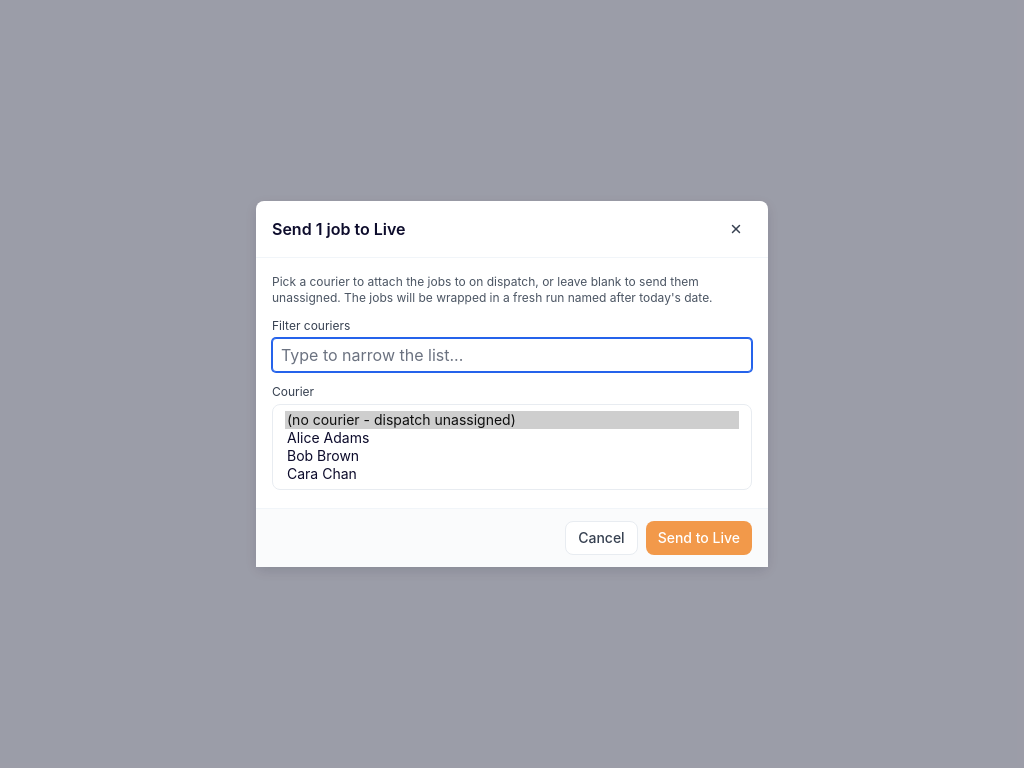
Test: SendSelectedModal › shows the "no couriers match" warning when filter has no hits
The width and height of the screenshot is (1024, 768).
Type "zzz" into the field with placeholder "Type to narrow the list..." at (512, 355), box [272,338,752,372]
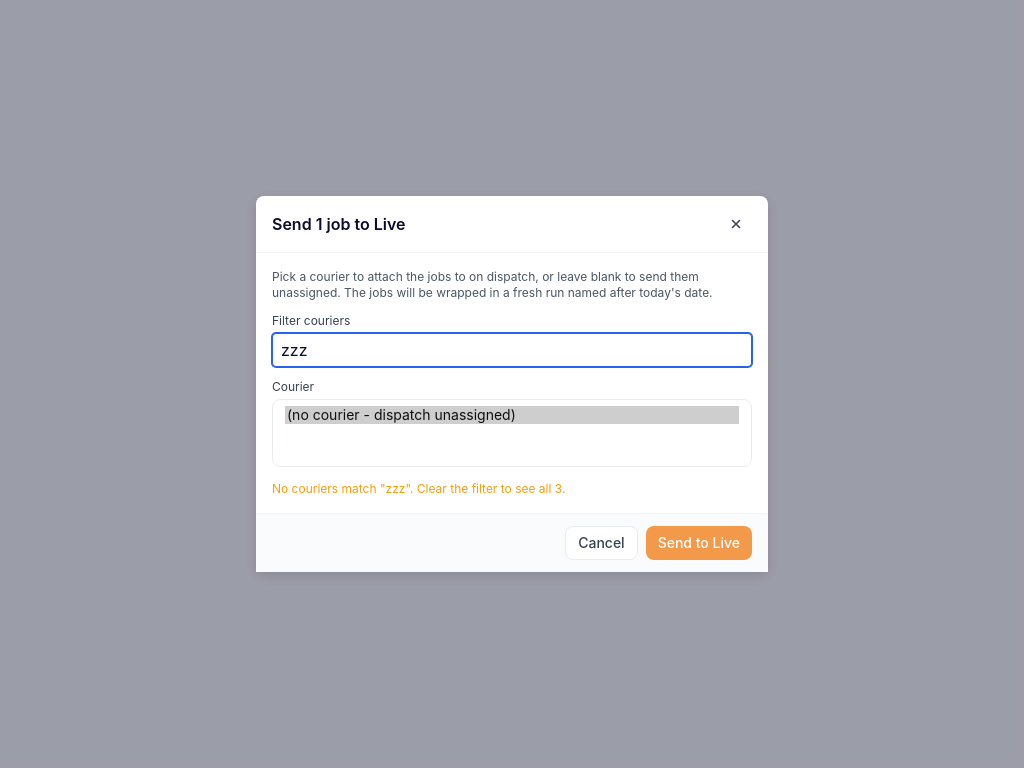
Result: the text "No couriers match \"zzz\". Clear the filter to see all 3." is shown at [272,481,565,496]
